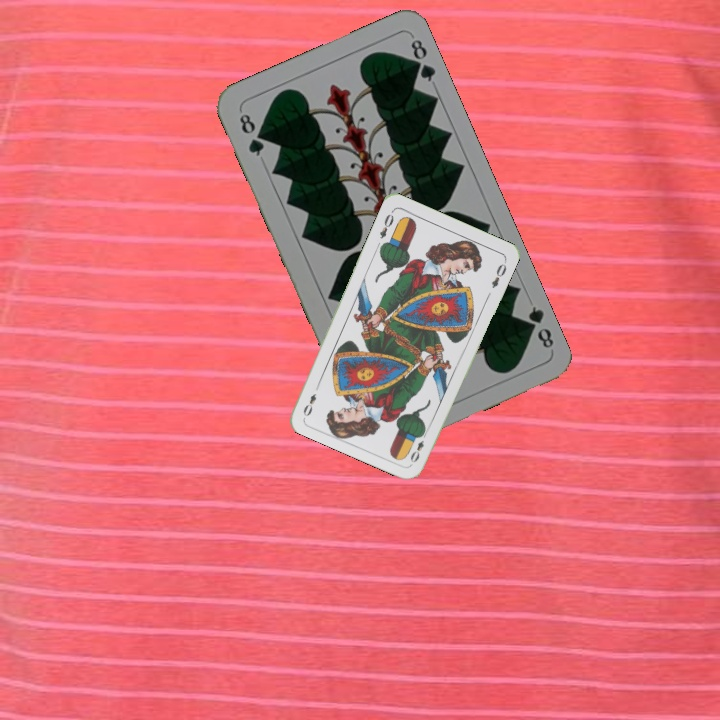EO: (406, 427, 430, 465), (376, 210, 397, 241)
G8: (518, 302, 557, 351), (235, 109, 267, 159)
